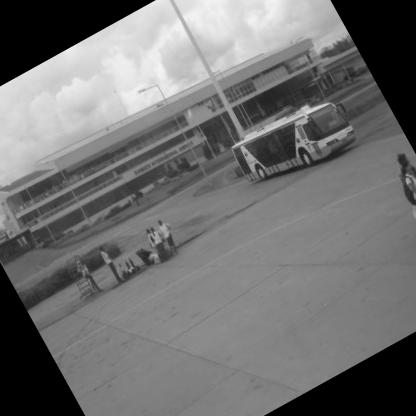bus: (220, 77, 382, 215)
